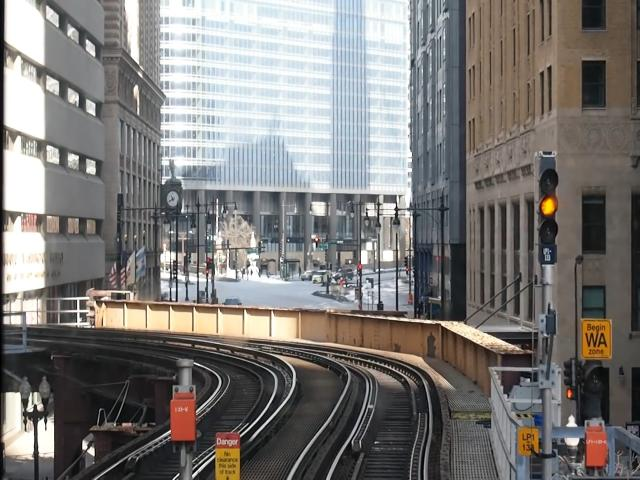signal light: (537, 154, 560, 267)
